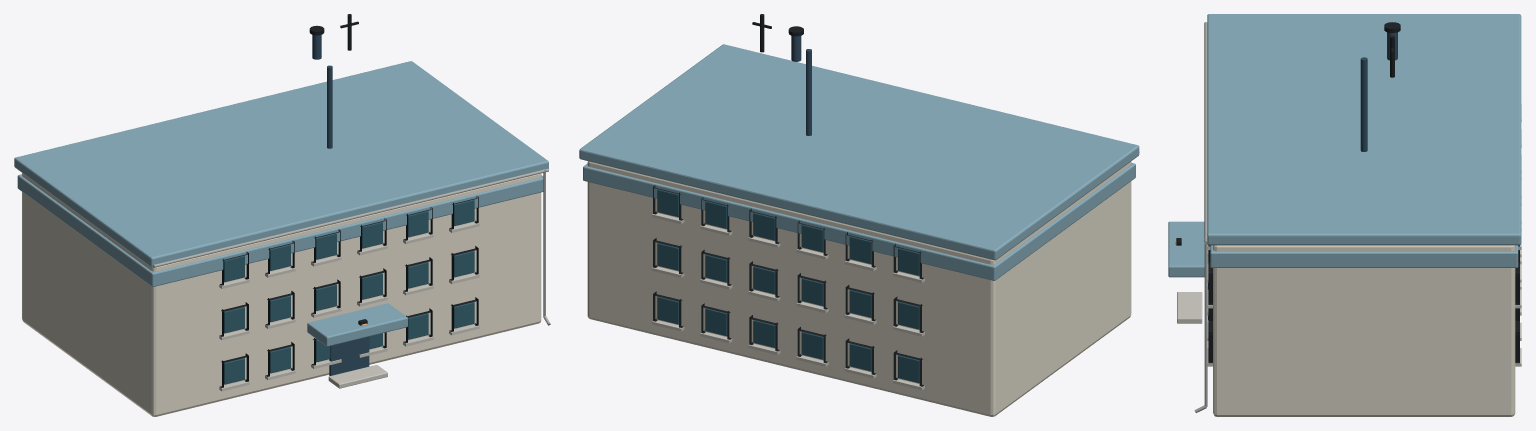
The model's file is CIV_POLICE_3x2_002.glb.
The picture shows the model from 3 angles, left to right: view 1: azimuth 30°, elevation 25°; view 2: azimuth 150°, elevation 25°; view 3: azimuth 270°, elevation 25°; orthographic projection. The views are drawn at different scales.
Visible parts, largest first — view 1: CIV_POLICE_3x2_002_Visual; view 2: CIV_POLICE_3x2_002_Visual; view 3: CIV_POLICE_3x2_002_Visual.
Part boxes in pixels (x1,y1,x2,y2): CIV_POLICE_3x2_002_Visual: (14,14,550,416); CIV_POLICE_3x2_002_Visual: (579,14,1139,416); CIV_POLICE_3x2_002_Visual: (1168,14,1521,416).
Size of what is drawn, in the model's own units: 5.37 by 3.6 by 3.63.
